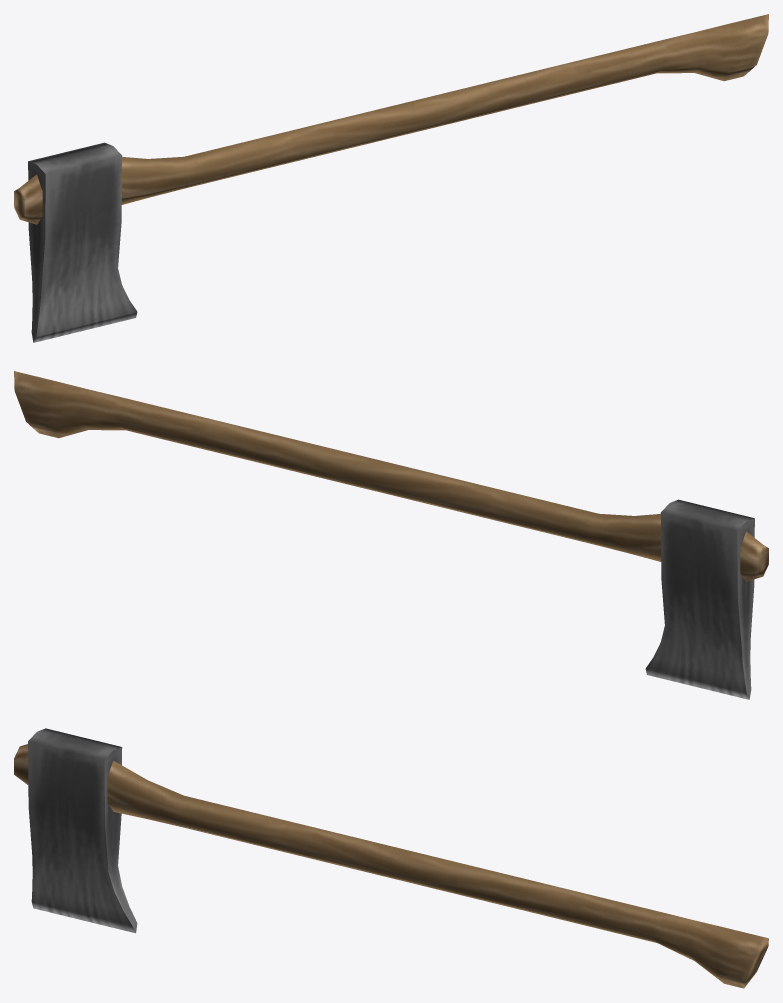
Rendered from Axe_Geo.fbx.
3 renders of one model, top to bottom at view 1: azimuth 30°, elevation 25°; view 2: azimuth 150°, elevation 25°; view 3: azimuth 330°, elevation 25°, orthographic.
Parts seen in each view (by area): view 1: Axe_Geo; view 2: Axe_Geo; view 3: Axe_Geo.
Part boxes in pixels (left/top/right/bottom): Axe_Geo: left=14, top=14, right=768, bottom=342; Axe_Geo: left=14, top=371, right=768, bottom=699; Axe_Geo: left=14, top=728, right=768, bottom=988.
Size of the model in its own units: 80.03 by 18.11 by 3.26.
